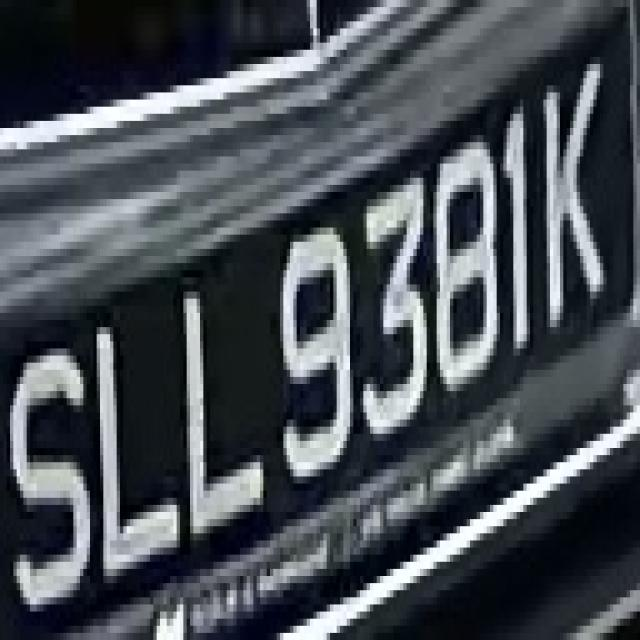1: (487, 85, 533, 363)
3: (346, 178, 426, 448)
8: (427, 128, 503, 405)
9: (273, 235, 357, 519)
K: (534, 71, 614, 327)
L: (163, 263, 270, 533), (96, 299, 186, 597)
S: (10, 320, 93, 612)
